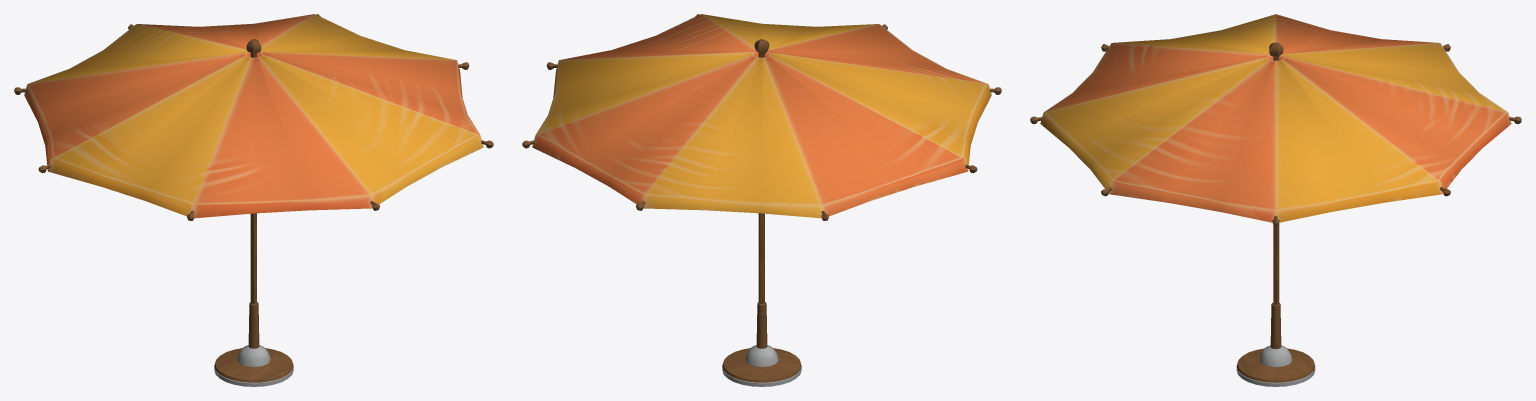
Rendered from Parasol.glb.
3 views of the same model, side by side, from view 1: azimuth 30°, elevation 25°; view 2: azimuth 150°, elevation 25°; view 3: azimuth 270°, elevation 25° (orthographic).
Visible parts, largest first — view 1: parasolTop_Low.001, Cylinder.010; view 2: parasolTop_Low.001, Cylinder.010; view 3: parasolTop_Low.001, Cylinder.010.
Boxes of the visible parts, left/top/right/bottom form: parasolTop_Low.001: left=24, top=14, right=483, bottom=218; Cylinder.010: left=14, top=14, right=493, bottom=386; parasolTop_Low.001: left=532, top=14, right=991, bottom=218; Cylinder.010: left=522, top=14, right=1001, bottom=386; parasolTop_Low.001: left=1040, top=14, right=1511, bottom=222; Cylinder.010: left=1030, top=42, right=1521, bottom=386.
Size of what is drawn, in the model's own units: 4.92 by 3.61 by 4.92.
Materials: 4 (3 with a texture image).
